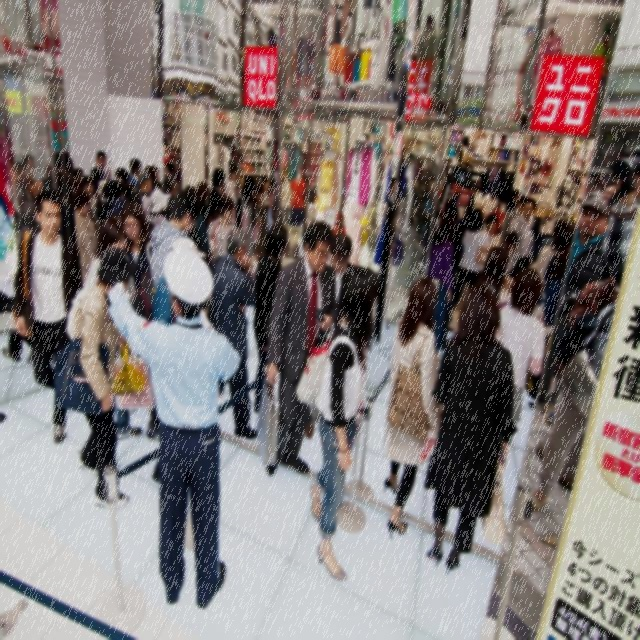pessoa: (108, 247, 242, 608), (521, 165, 640, 554), (294, 263, 382, 585), (424, 283, 515, 575), (314, 122, 436, 316), (259, 218, 340, 478), (13, 185, 85, 446), (74, 246, 135, 511), (384, 276, 444, 540), (85, 216, 145, 442), (325, 0, 440, 112), (510, 14, 616, 128), (207, 226, 257, 442), (133, 186, 204, 322), (0, 162, 36, 424), (496, 264, 548, 424), (438, 178, 481, 344), (252, 222, 288, 415), (450, 128, 590, 166), (427, 211, 454, 353), (452, 206, 488, 312), (324, 232, 358, 340), (120, 203, 154, 292), (279, 164, 307, 262), (36, 156, 84, 213), (73, 188, 99, 288), (184, 185, 212, 274), (481, 230, 518, 296), (506, 197, 535, 281), (235, 174, 262, 262), (206, 196, 236, 262), (291, 27, 319, 95), (12, 160, 38, 233), (480, 245, 510, 300), (498, 194, 528, 248), (254, 184, 274, 264), (95, 179, 125, 229), (130, 170, 152, 222), (251, 182, 267, 252), (162, 134, 182, 184), (146, 188, 172, 226), (207, 168, 226, 220), (90, 150, 111, 194), (160, 174, 178, 222), (91, 179, 110, 223), (160, 161, 182, 194), (435, 196, 452, 236), (106, 197, 130, 225), (483, 212, 498, 256), (224, 166, 242, 202), (480, 188, 498, 224), (80, 175, 98, 210), (196, 181, 210, 221), (22, 154, 36, 192), (504, 188, 521, 216), (142, 164, 156, 194), (445, 302, 458, 334), (129, 158, 142, 186), (124, 171, 137, 198), (150, 165, 162, 191), (261, 174, 270, 204), (115, 167, 128, 183), (35, 213, 42, 236), (173, 188, 184, 202)
